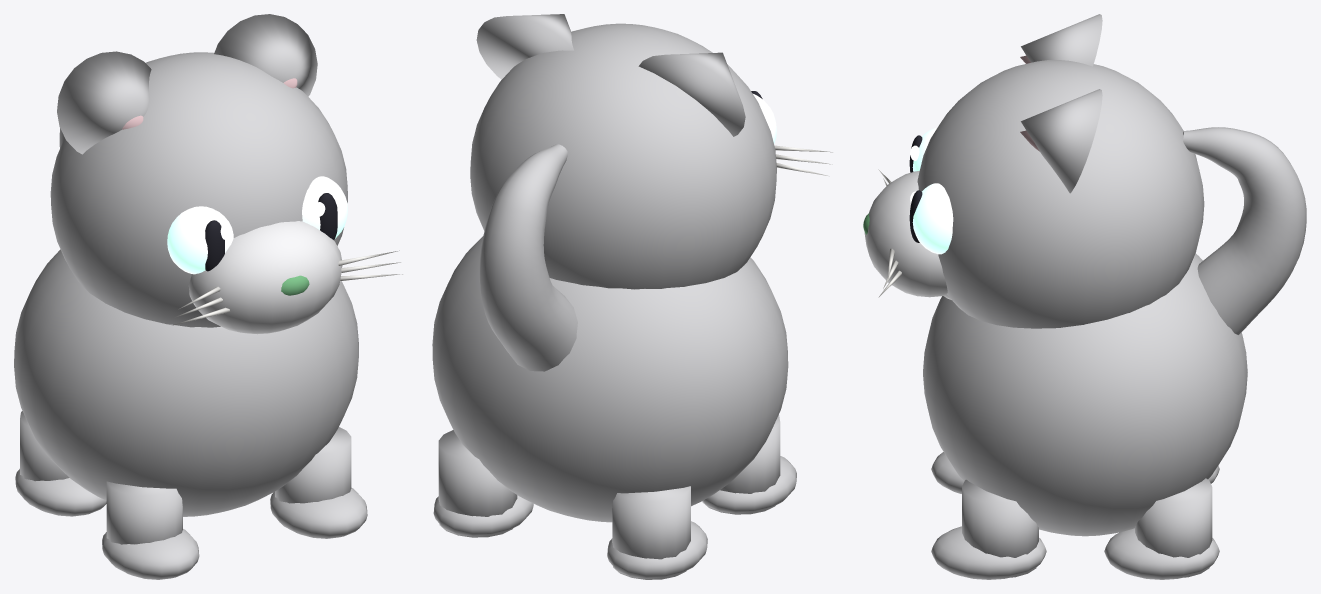
File: scottish_lucky.glb
3 views of the same model, side by side, from view 1: azimuth 30°, elevation 25°; view 2: azimuth 150°, elevation 25°; view 3: azimuth 270°, elevation 25° (orthographic). The views are drawn at different scales.
Visible parts, largest first — view 1: scottish_lucky; view 2: scottish_lucky; view 3: scottish_lucky.
Boxes of the visible parts, bbox=[...] form: scottish_lucky: bbox=[14, 14, 402, 579]; scottish_lucky: bbox=[432, 14, 832, 579]; scottish_lucky: bbox=[863, 14, 1306, 579].
Bounding box in the file's own units: 1.04 × 1.54 × 1.31.
